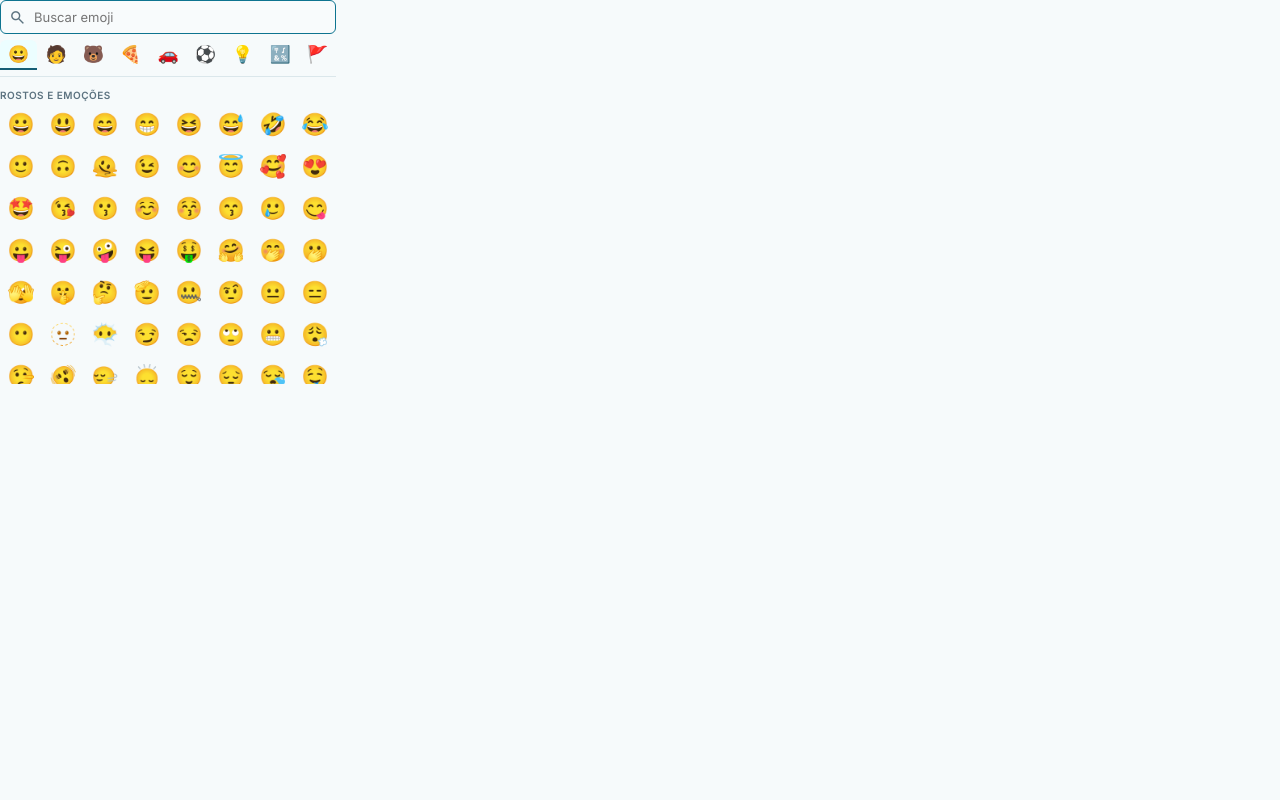
Scenario: EmojiPicker skin tone › opens a palette of six tones for an emoji that has them
Type keys "polegar para cima"
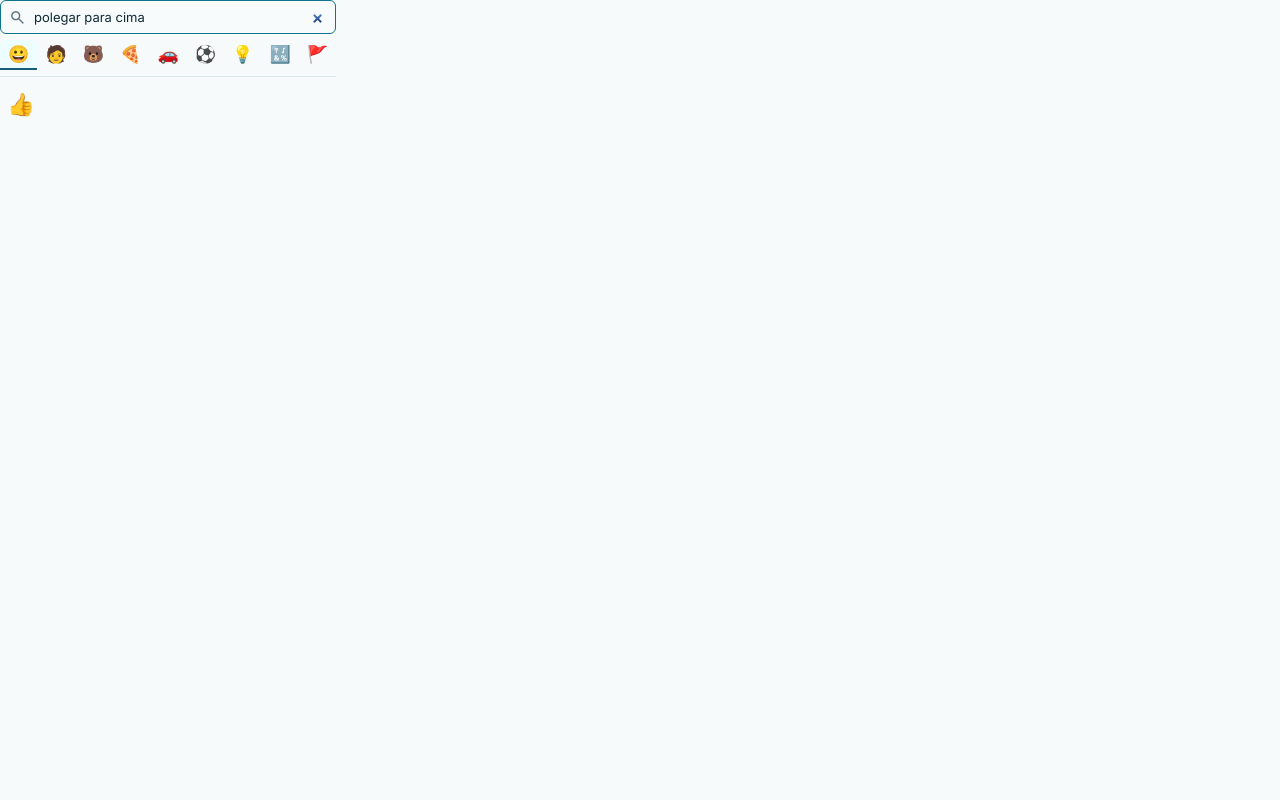
Click the button named "polegar para cima" at (21, 104), box [0,83,42,125]
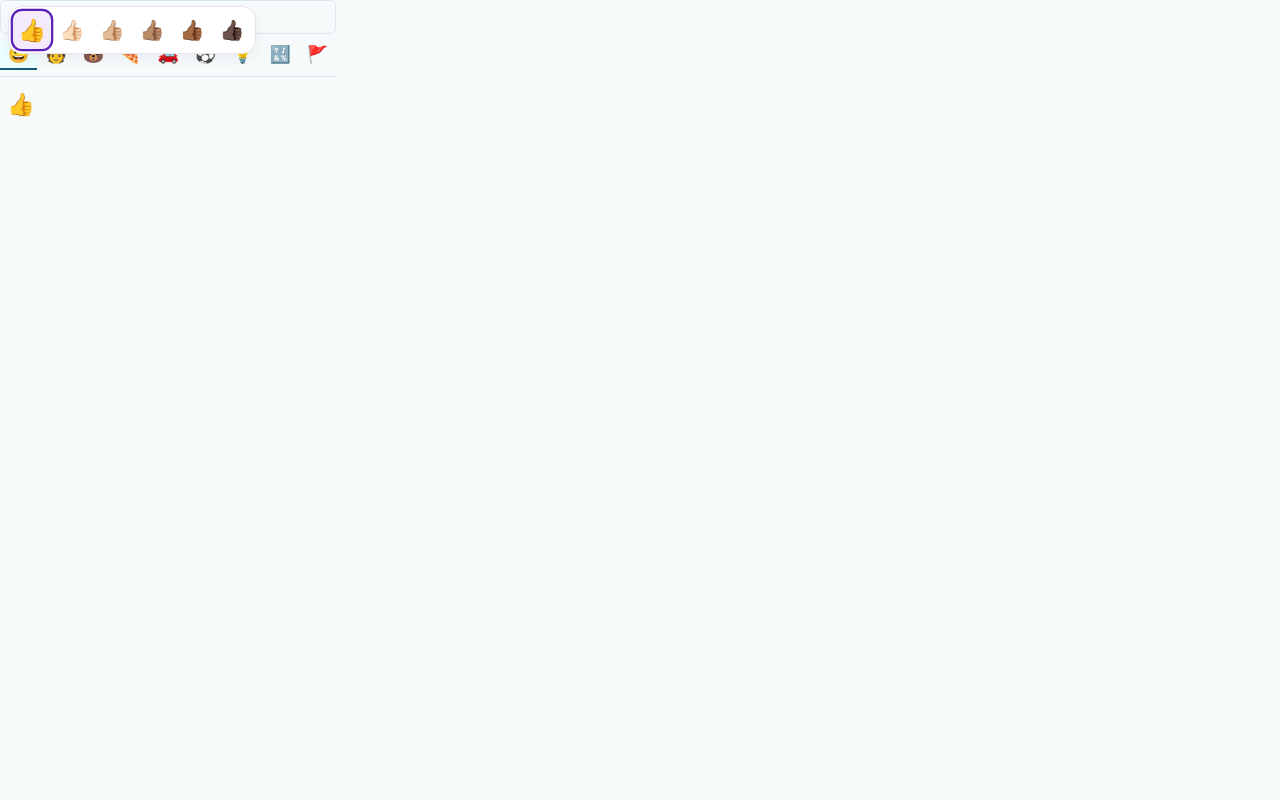
Check: the button named "polegar para cima — Morena escura" is shown, box [173,11,211,49]
